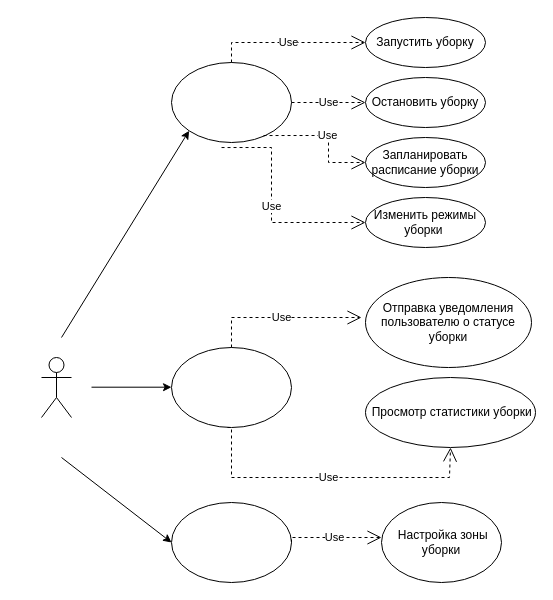
This 553x600 diagram has some shape labels left out. Here are the shapes that lost their labels. From the top down, the centre of each, then its label:
At (231,102): "Управление роботом-пылесосом".
At (56,387): "Пользователь".
At (231,387): "Мониторинг и уведомления".
At (231,542): "Управление зонами уборки".
